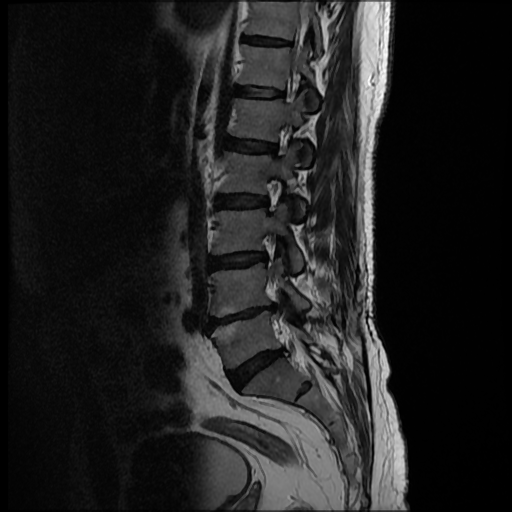RFS0: (251, 168, 292, 219), (264, 116, 302, 166)
